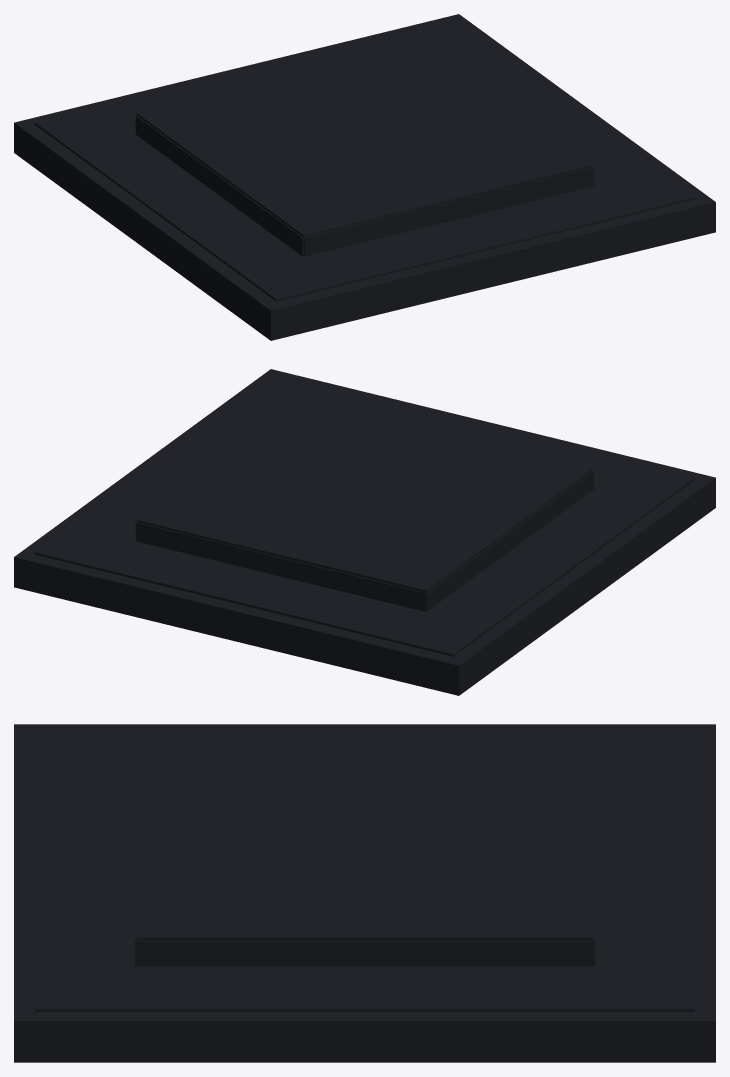
File: SM_EC_Ceiling.glb
3 views of the same model, one above another, from view 1: azimuth 30°, elevation 25°; view 2: azimuth 150°, elevation 25°; view 3: azimuth 270°, elevation 25° (orthographic). The views are drawn at different scales.
Parts seen in each view (by area): view 1: SM_EC_Ceiling; view 2: SM_EC_Ceiling; view 3: SM_EC_Ceiling.
Boxes of the visible parts, x1,y1,x2,y2 form: SM_EC_Ceiling: (14, 14, 715, 340); SM_EC_Ceiling: (14, 369, 715, 695); SM_EC_Ceiling: (14, 724, 715, 1062).
Bounding box in the file's own units: 4 × 0.46 × 4.
Materials: 2 (2 with a texture image).
